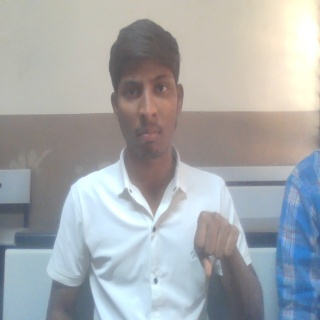Face: (107, 17, 188, 164)
Yes: (193, 209, 241, 279)
